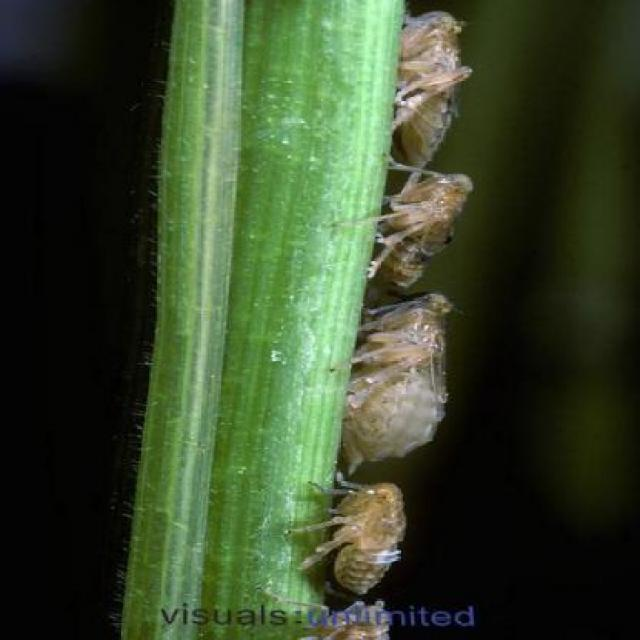brown-planthopper: (357, 306, 460, 466), (397, 14, 463, 160), (394, 166, 474, 285), (323, 486, 402, 594)
